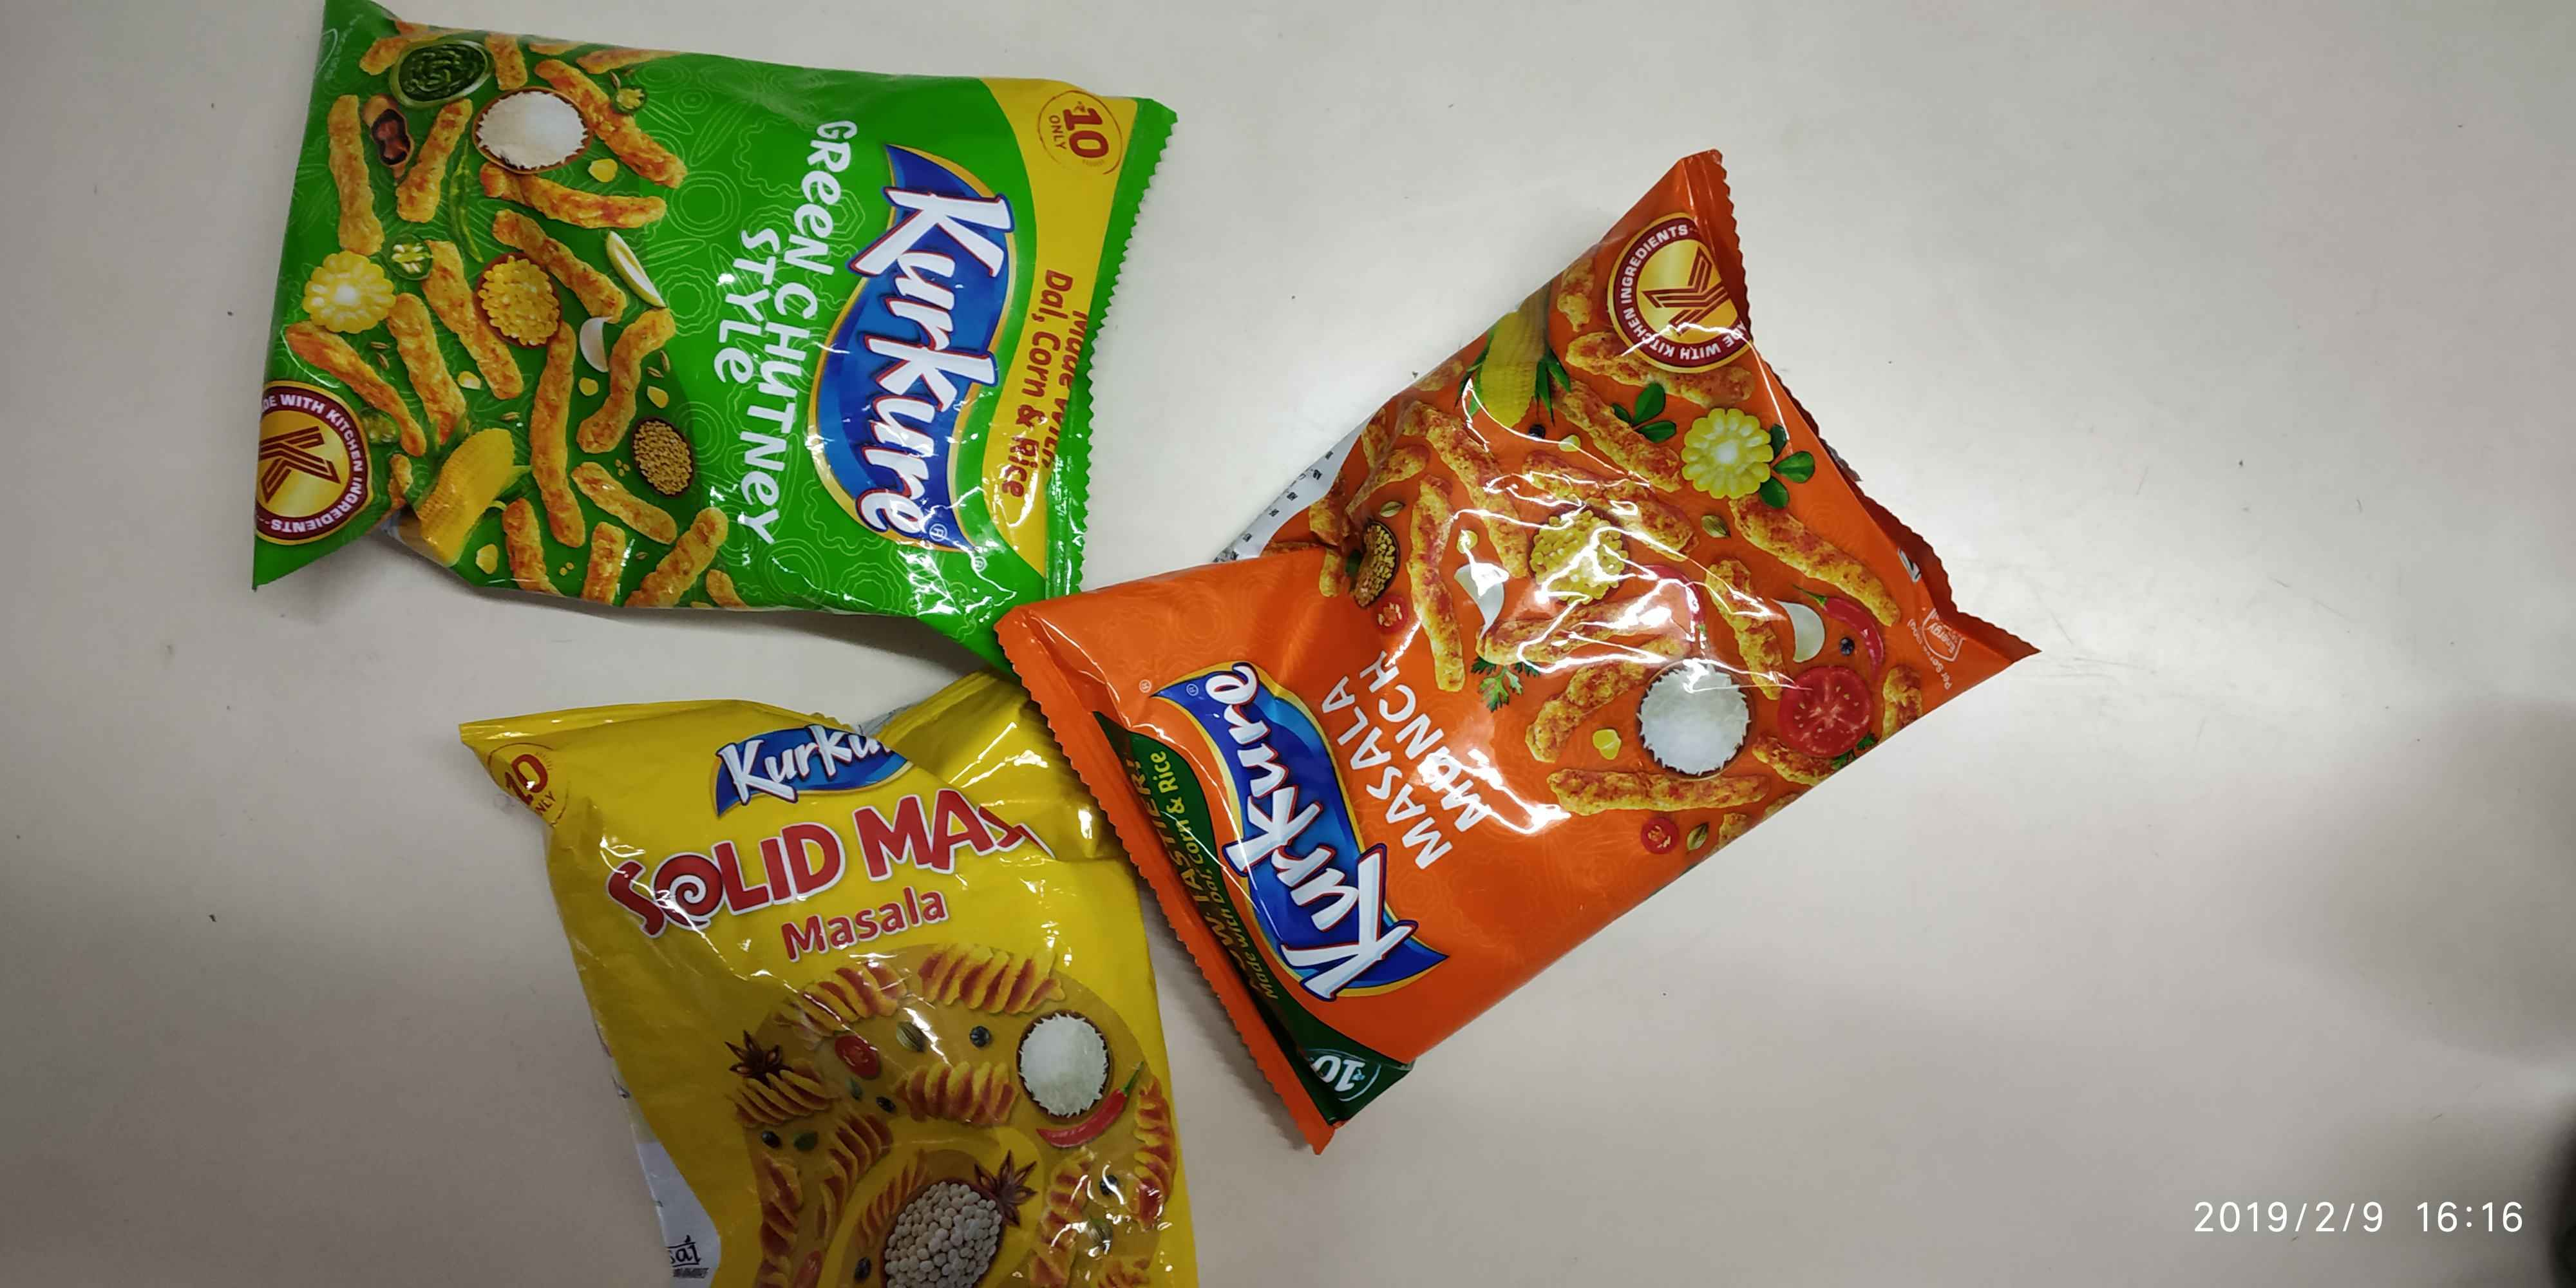kurkure: (1165, 631, 1483, 981), (812, 126, 1033, 552), (708, 716, 933, 823)
